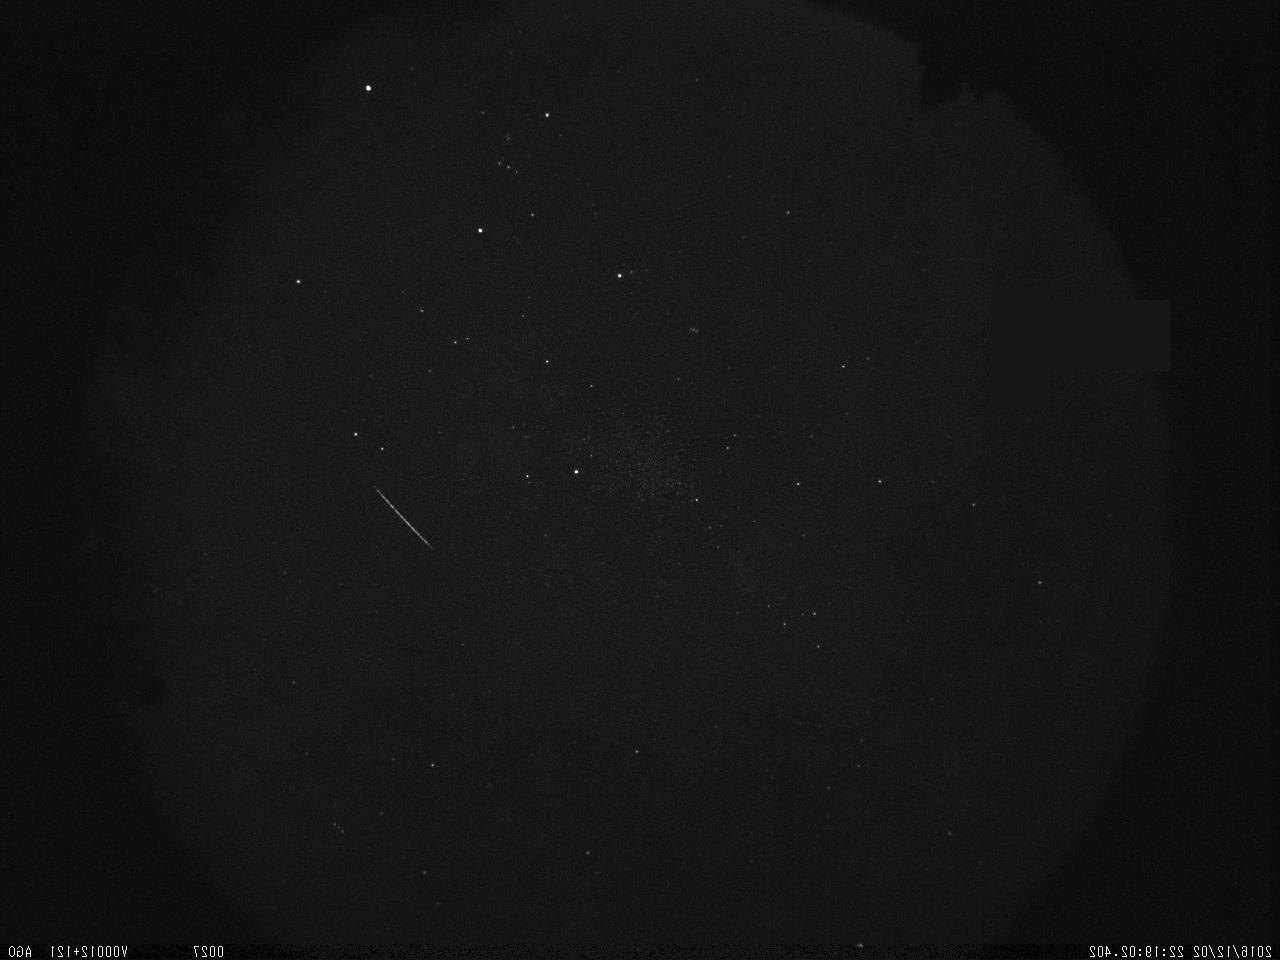meteor: (367, 475, 433, 556)
